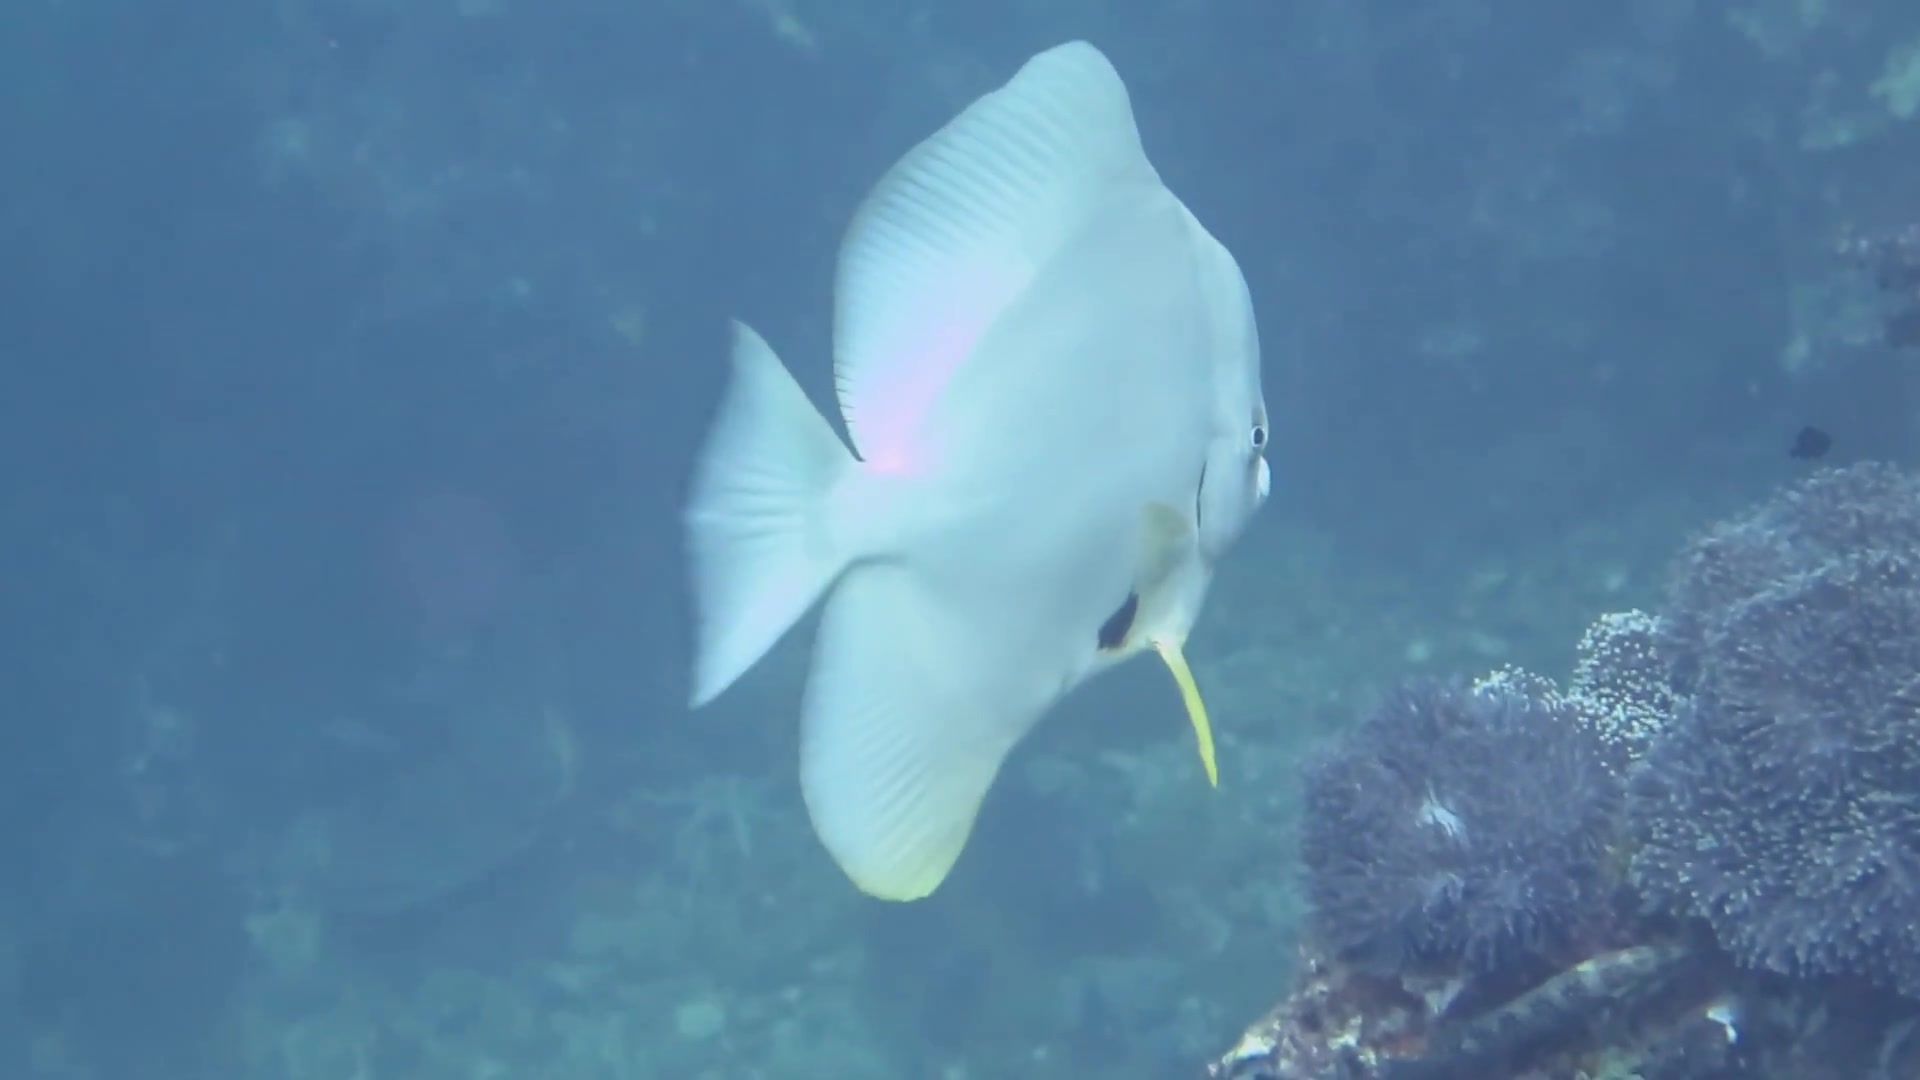Platax teira: (658, 1, 1327, 891)
